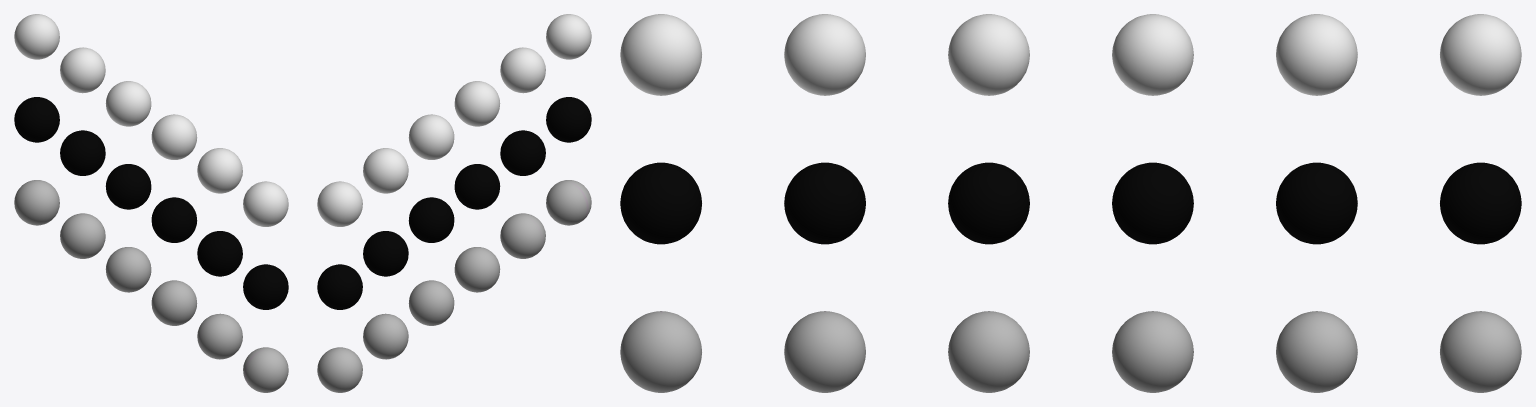
The model's file is SM_RougnessBalls.fbx.
The picture shows the model from 3 angles, left to right: view 1: azimuth 30°, elevation 25°; view 2: azimuth 150°, elevation 25°; view 3: azimuth 270°, elevation 25°; orthographic projection. The views are drawn at different scales.
Parts seen in each view (by area): view 1: Sphere.002; view 2: Sphere.002; view 3: Sphere.002.
Part boxes in pixels (x1=…): Sphere.002: x1=14, y1=14, x2=288, y2=392; Sphere.002: x1=317, y1=14, x2=591, y2=392; Sphere.002: x1=620, y1=14, x2=1521, y2=392.
Size of the model in its own units: 220 by 20 by 100.
3 materials, 2 textured.
